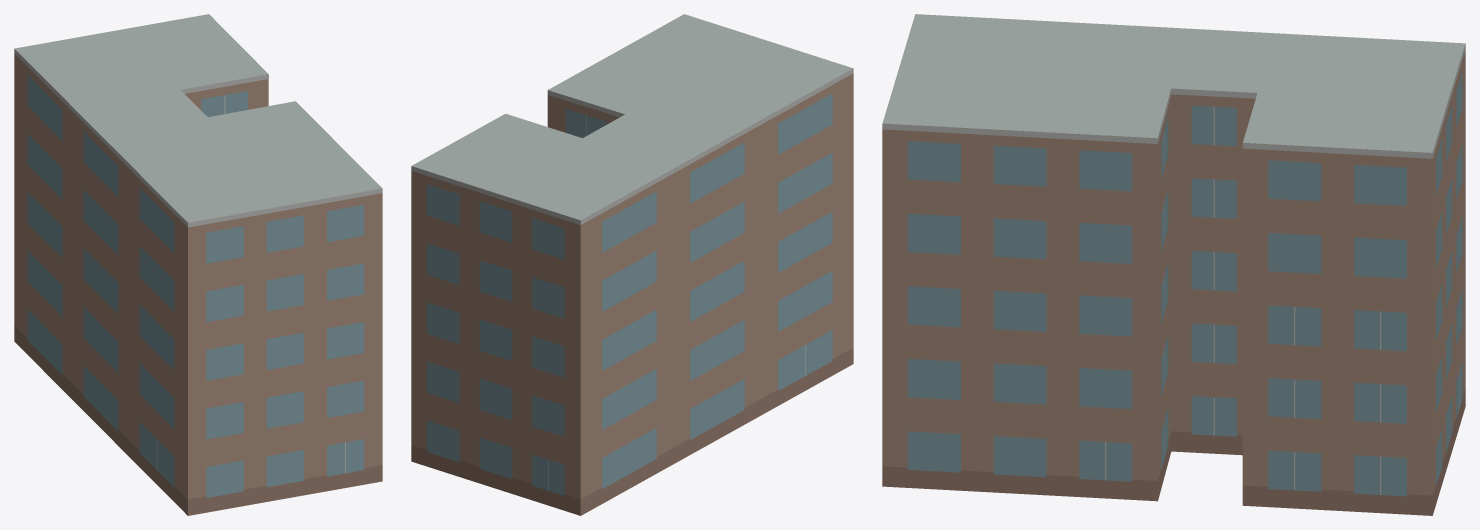
The model's file is survey-upis-32632947.glb.
3 views of the same model, side by side, from view 1: azimuth 30°, elevation 25°; view 2: azimuth 150°, elevation 25°; view 3: azimuth 270°, elevation 25° (orthographic). The views are drawn at different scales.
Parts seen in each view (by area): view 1: survey-upis-32632947.tmp; view 2: survey-upis-32632947.tmp; view 3: survey-upis-32632947.tmp.
Boxes of the visible parts, x1,y1,x2,y2 form: survey-upis-32632947.tmp: (14, 14, 382, 515); survey-upis-32632947.tmp: (411, 14, 853, 515); survey-upis-32632947.tmp: (882, 14, 1465, 515).
Bounding box in the file's own units: 12.49 × 15.2 × 22.15.
